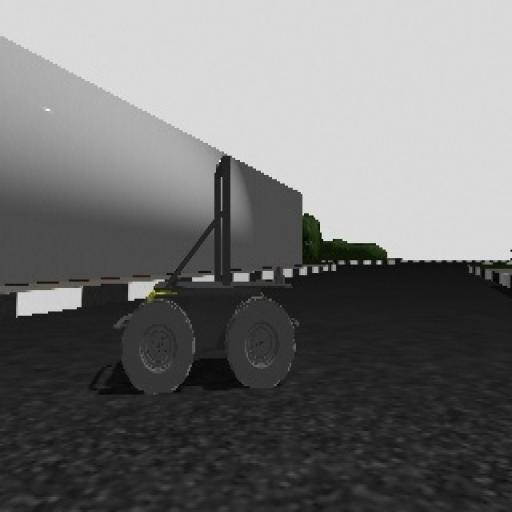huskya200: (82, 142, 314, 416)
